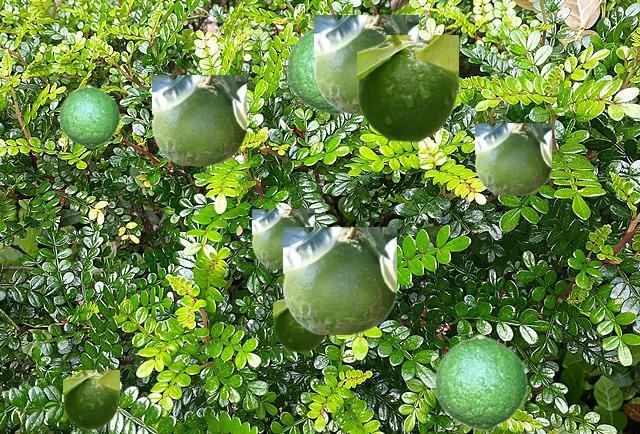dalandan: (283, 227, 395, 333), (357, 35, 457, 141), (314, 15, 417, 112), (433, 333, 527, 430), (152, 75, 245, 164), (475, 123, 550, 194), (285, 28, 343, 114), (58, 84, 119, 147), (252, 209, 313, 267), (63, 370, 118, 428), (273, 298, 327, 351)
